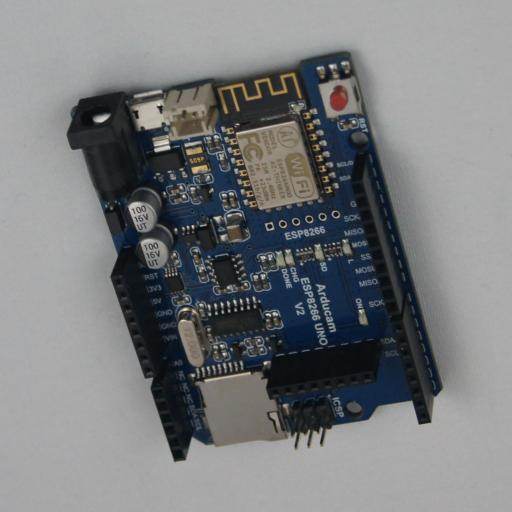Arduino Uno Camera Shield: (66, 51, 442, 462)
